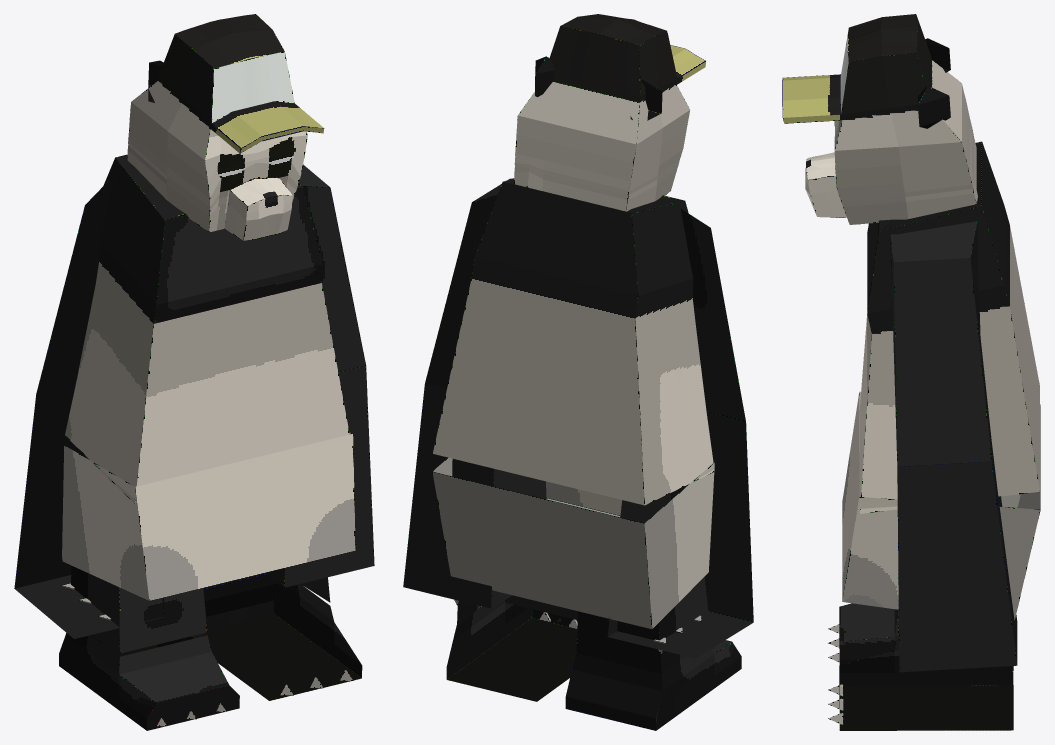
Rendered from panda3.gltf.
The picture shows the model from 3 angles, left to right: view 1: azimuth 30°, elevation 25°; view 2: azimuth 150°, elevation 25°; view 3: azimuth 270°, elevation 25°; orthographic projection. The views are drawn at different scales.
Parts seen in each view (by area): view 1: panda.004, panda.012, panda.005, panda.011, panda.009, panda.007, panda.006, panda.008, panda.002, panda.003; view 2: panda.004, panda.012, panda.005, panda.007, panda.011, panda.009, panda.002, panda.006, panda.008, panda.003; view 3: panda.005, panda.004, panda.002, panda.003, panda.011, panda.012, panda.009.
Part boxes in pixels (x1,y1,x2,y2): panda.004: [65, 154, 349, 503]; panda.012: [62, 431, 355, 600]; panda.005: [127, 14, 324, 240]; panda.011: [203, 574, 362, 700]; panda.009: [59, 633, 239, 730]; panda.007: [14, 384, 164, 638]; panda.006: [36, 175, 114, 393]; panda.008: [71, 566, 207, 653]; panda.002: [266, 365, 374, 587]; panda.003: [299, 164, 365, 372]; panda.004: [432, 178, 714, 505]; panda.012: [432, 457, 714, 629]; panda.005: [514, 14, 705, 211]; panda.007: [607, 412, 753, 658]; panda.011: [446, 595, 577, 701]; panda.009: [565, 640, 741, 730]; panda.002: [403, 383, 546, 608]; panda.006: [680, 208, 745, 421]; panda.008: [576, 577, 708, 673]; panda.003: [425, 178, 513, 388]; panda.005: [782, 14, 977, 224]; panda.004: [859, 141, 1039, 513]; panda.002: [897, 445, 1017, 672]; panda.003: [890, 221, 991, 466]; panda.011: [828, 636, 1013, 730]; panda.012: [842, 391, 1040, 620]; panda.009: [828, 603, 1013, 671].
Bounding box in the file's own units: 40.06 × 83.65 × 30.17.
Materials: 1 (1 with a texture image).
